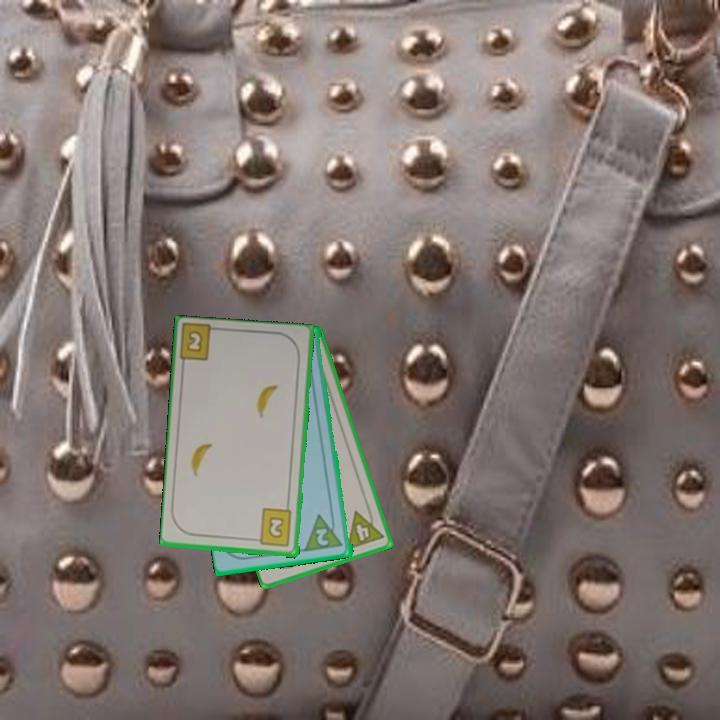2b: (251, 506, 294, 549), (184, 327, 205, 355)
2p: (313, 525, 332, 549)
4p: (343, 503, 387, 553)
